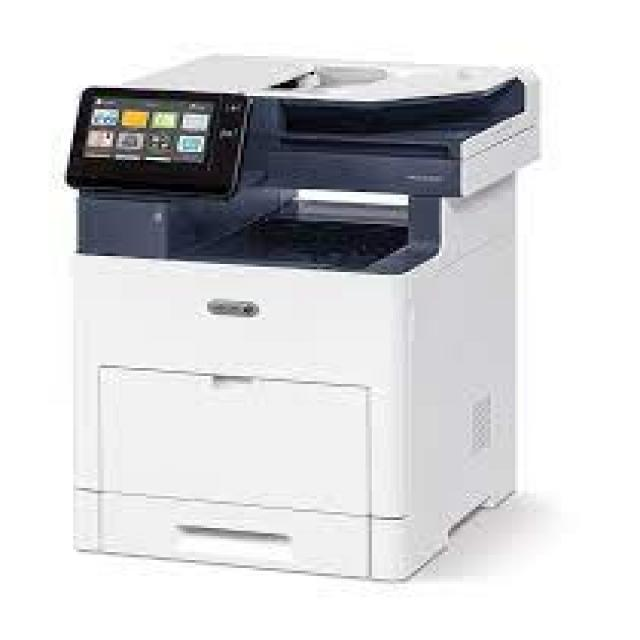printer: (29, 12, 568, 614)
